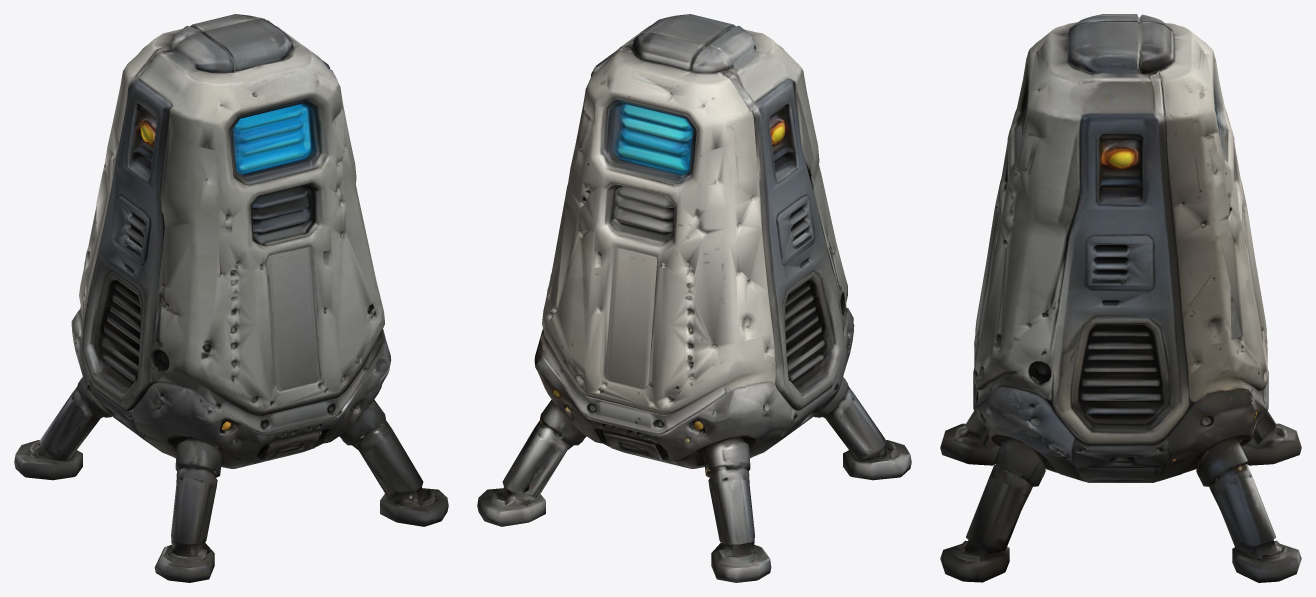
File: beacon.glb
The picture shows the model from 3 angles, left to right: view 1: azimuth 30°, elevation 25°; view 2: azimuth 150°, elevation 25°; view 3: azimuth 270°, elevation 25°; orthographic projection. The views are drawn at different scales.
Visible parts, largest first — view 1: tripo_node_977adbf0-244f-4eed-ac99-32df7037d298; view 2: tripo_node_977adbf0-244f-4eed-ac99-32df7037d298; view 3: tripo_node_977adbf0-244f-4eed-ac99-32df7037d298.
Part boxes in pixels (x1,y1,x2,y2): tripo_node_977adbf0-244f-4eed-ac99-32df7037d298: (14, 14, 448, 582); tripo_node_977adbf0-244f-4eed-ac99-32df7037d298: (477, 14, 911, 582); tripo_node_977adbf0-244f-4eed-ac99-32df7037d298: (940, 14, 1301, 582).
Bounding box in the file's own units: 0.2639 × 0.4025 × 0.2749.
1 material, 1 textured.
